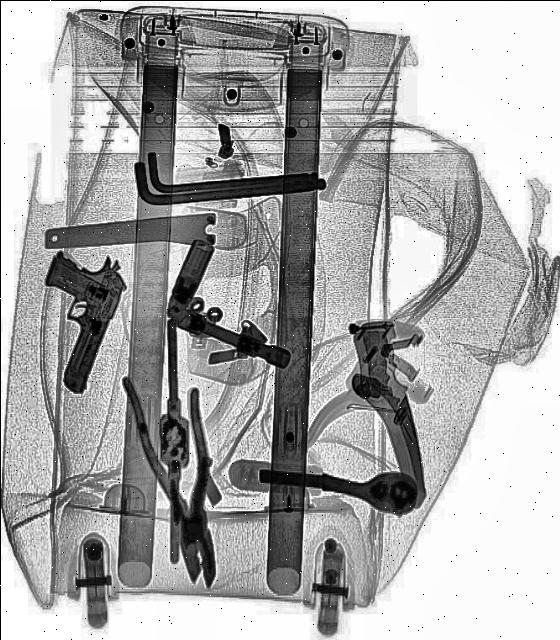Gun: (7, 236, 133, 397)
Pliers: (122, 365, 232, 597)
